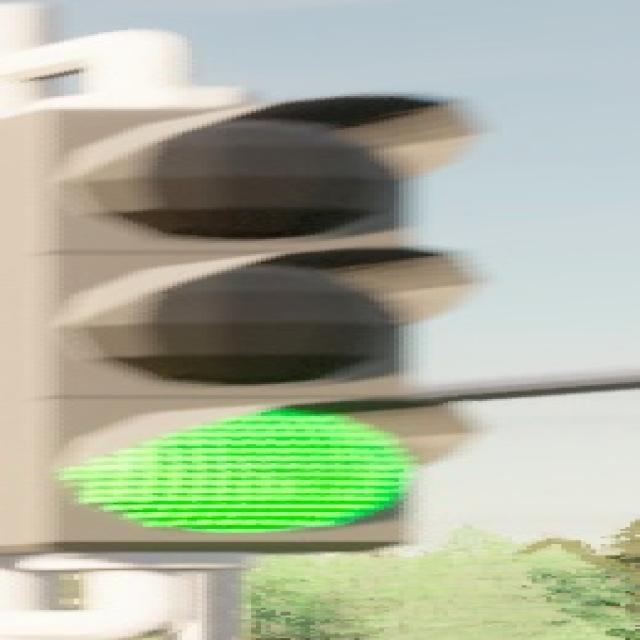green_light: (0, 81, 463, 555)
